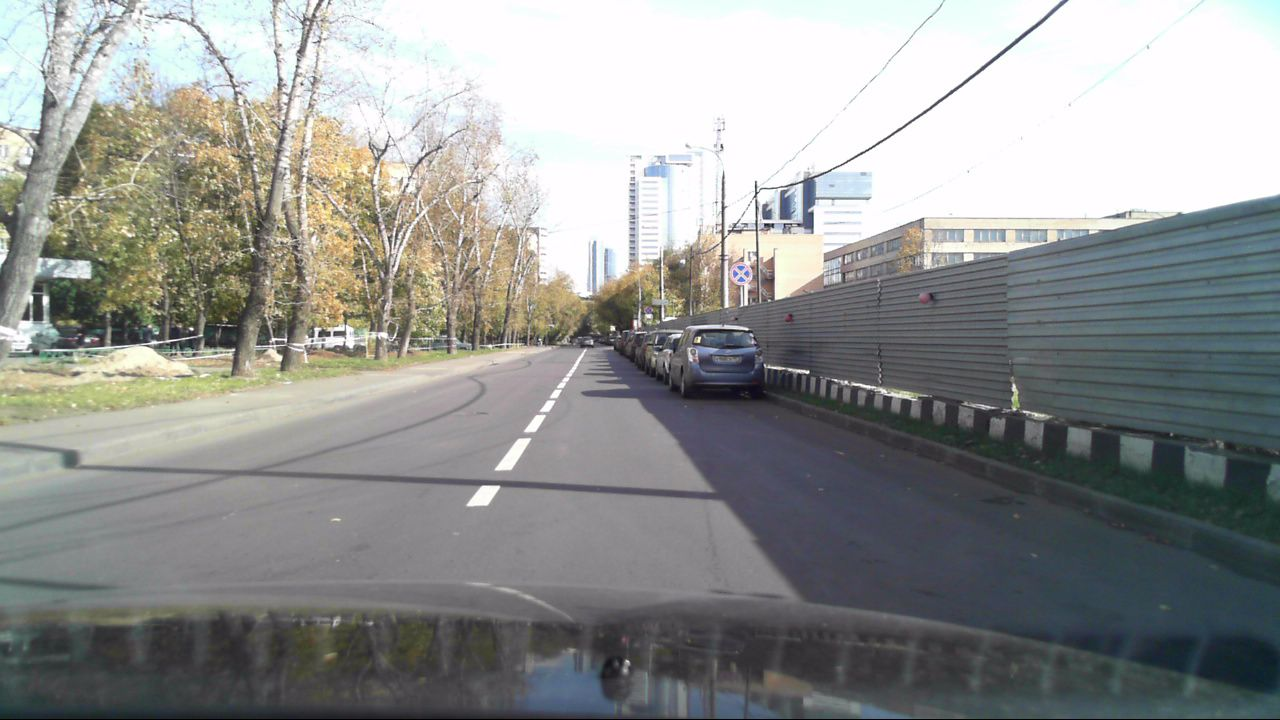No Parking: (729, 261, 754, 287)
